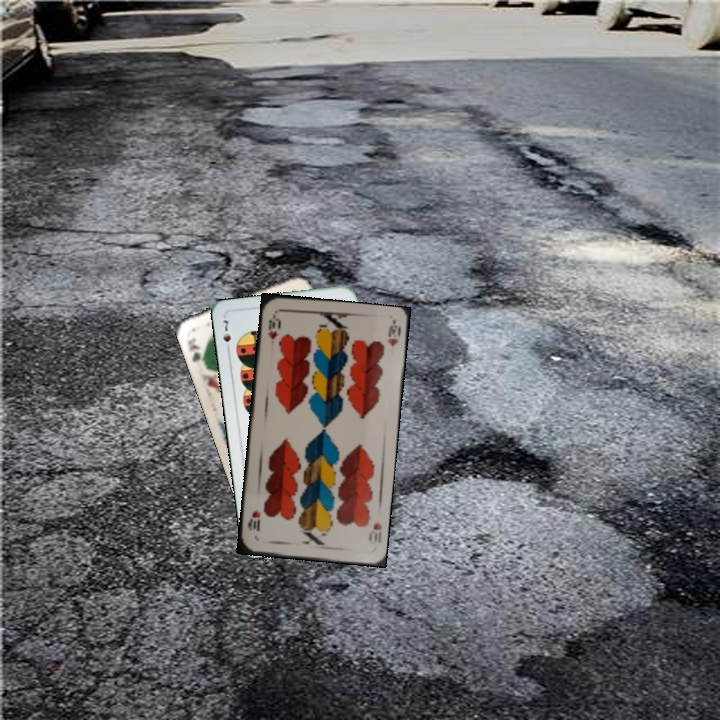GK: (183, 333, 208, 366)
H10: (264, 310, 283, 342), (364, 518, 384, 546)
S7: (219, 316, 234, 355)
